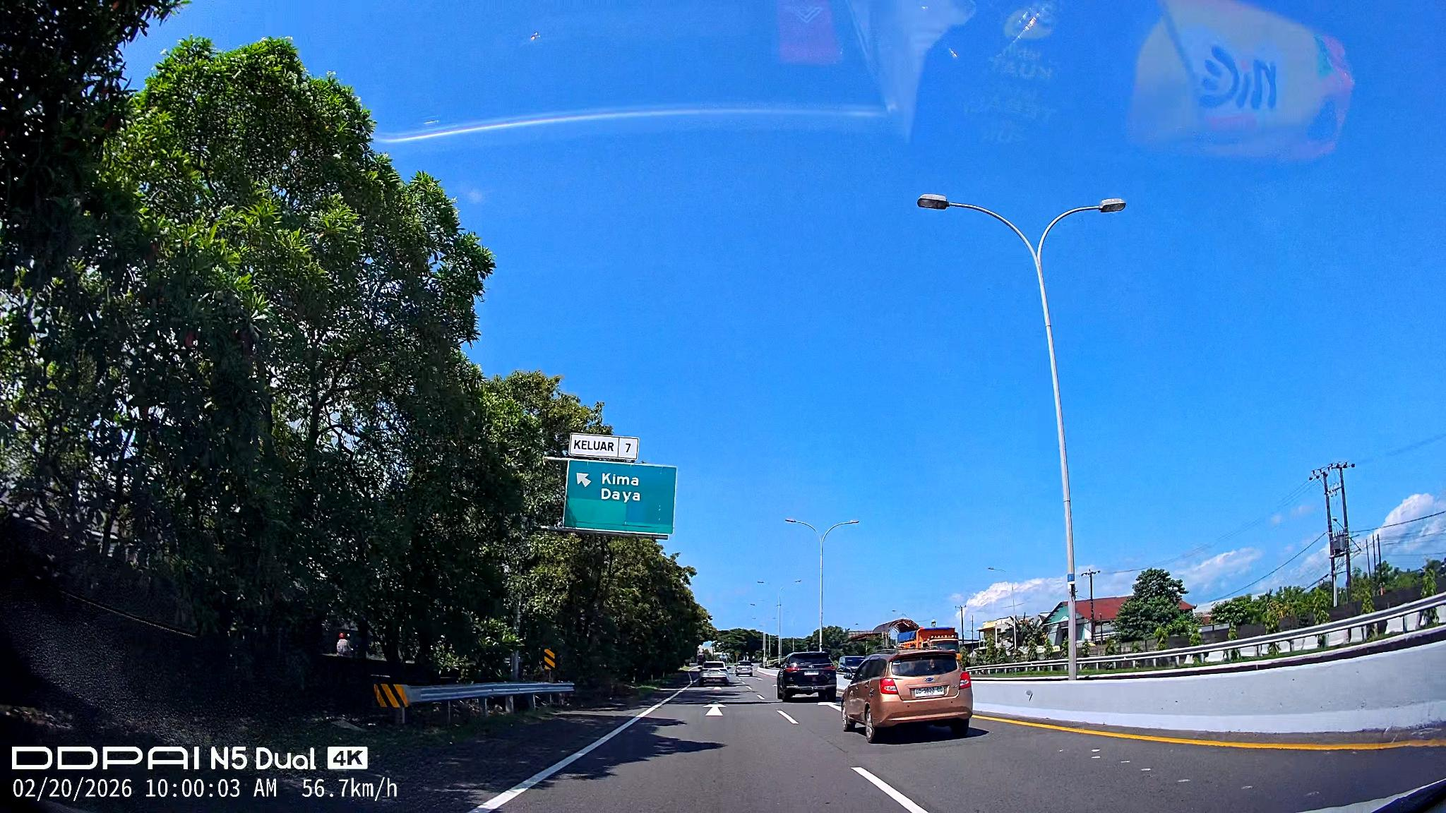rambu_teks: (561, 458, 679, 536)
